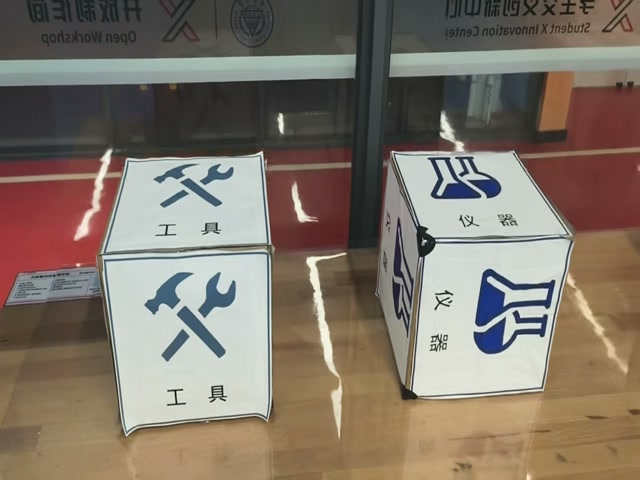Cube_ins: (390, 152, 573, 248)
Cube_tool: (98, 154, 271, 260)
